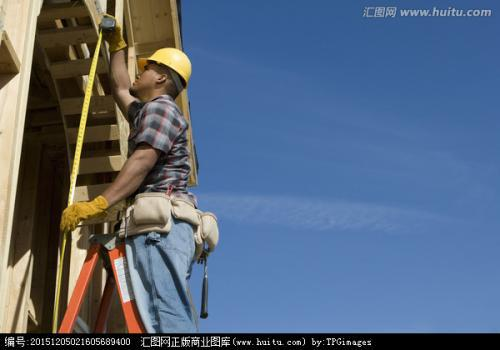helmet: (128, 45, 196, 106)
